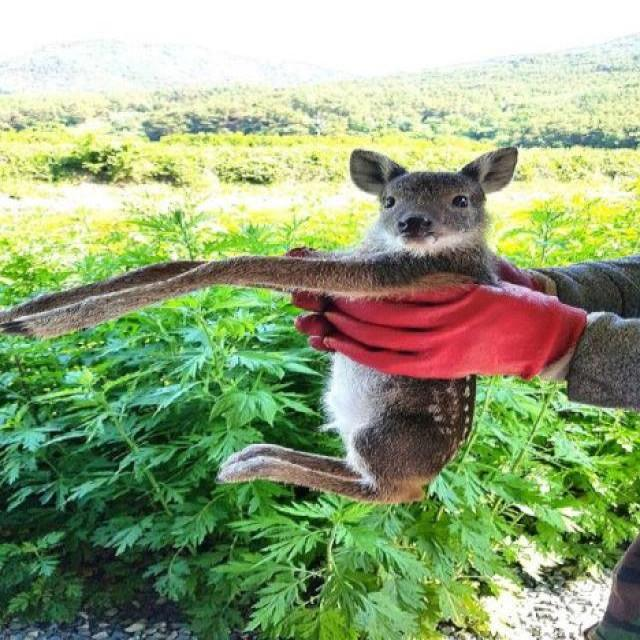deer: (0, 137, 540, 556)
